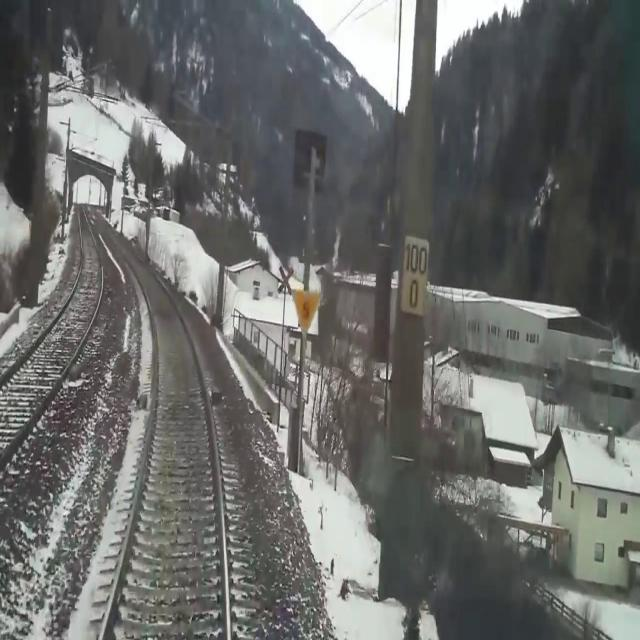rail-track: (97, 218, 226, 639)
